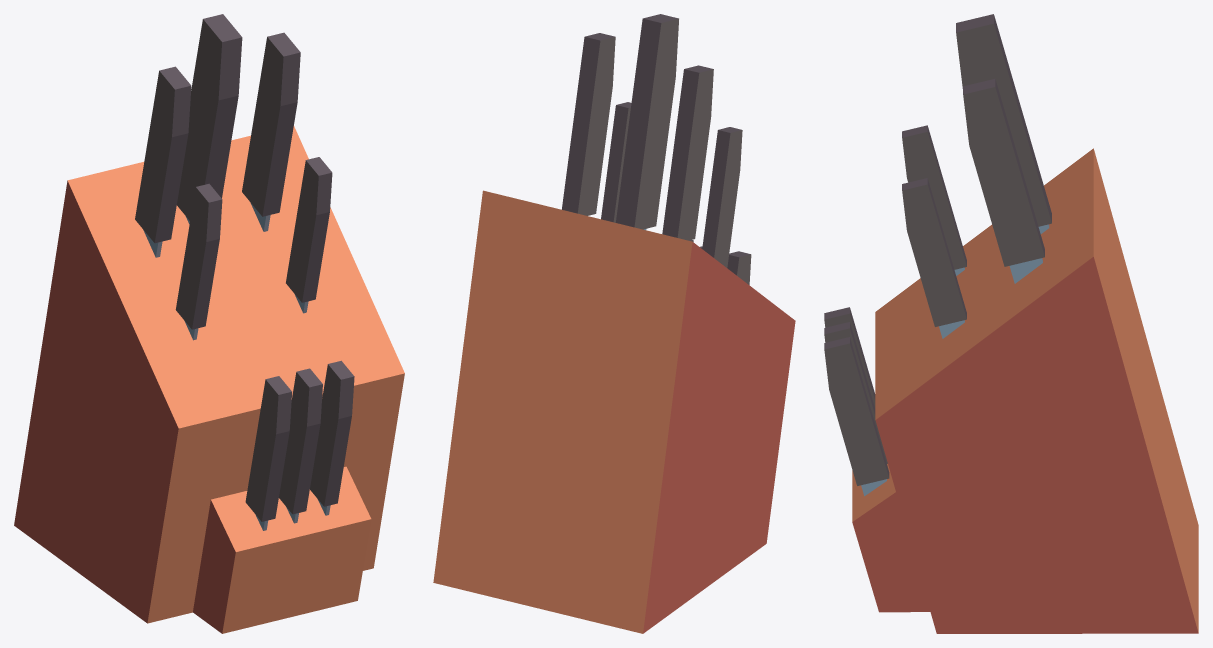
The model's file is Knife Rack.fbx.
3 renders of one model, left to right at view 1: azimuth 30°, elevation 25°; view 2: azimuth 150°, elevation 25°; view 3: azimuth 270°, elevation 25°, orthographic. The views are drawn at different scales.
Visible parts, largest first — view 1: Knife Rack; view 2: Knife Rack; view 3: Knife Rack.
Boxes of the visible parts, x1,y1,x2,y2 form: Knife Rack: (14,14,404,633); Knife Rack: (433,14,795,633); Knife Rack: (824,14,1198,633).
Size of the model in its own units: 30.62 by 72.75 by 44.71.
